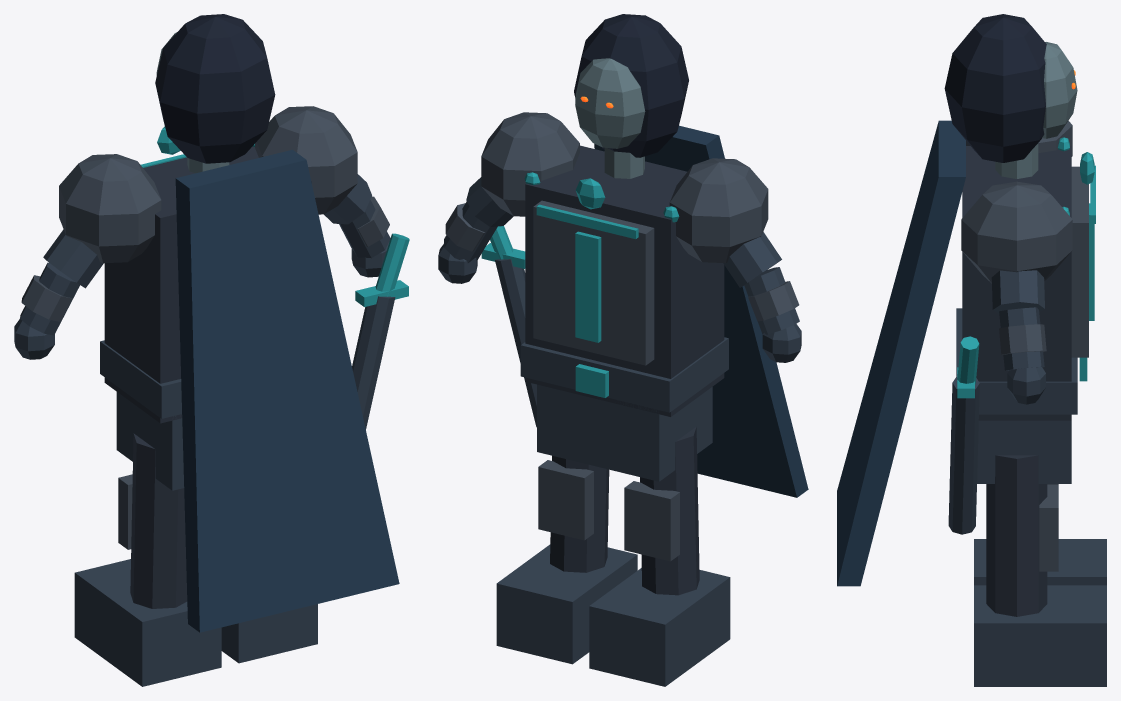
The model's file is ash_wraith.glb.
3 views of the same model, side by side, from view 1: azimuth 30°, elevation 25°; view 2: azimuth 150°, elevation 25°; view 3: azimuth 270°, elevation 25° (orthographic). The views are drawn at different scales.
Visible parts, largest first — view 1: AshWraith; view 2: AshWraith; view 3: AshWraith.
Boxes of the visible parts, <box> form: AshWraith: <box>14,14,409,686</box>; AshWraith: <box>438,14,808,686</box>; AshWraith: <box>837,14,1106,686</box>.
Size of the model in its own units: 1.09 by 1.77 by 0.69.
